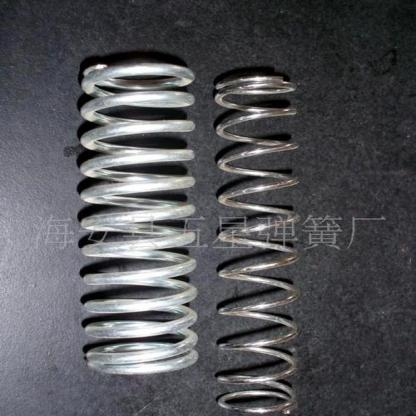FOD: (70, 51, 207, 378), (211, 71, 303, 415)
